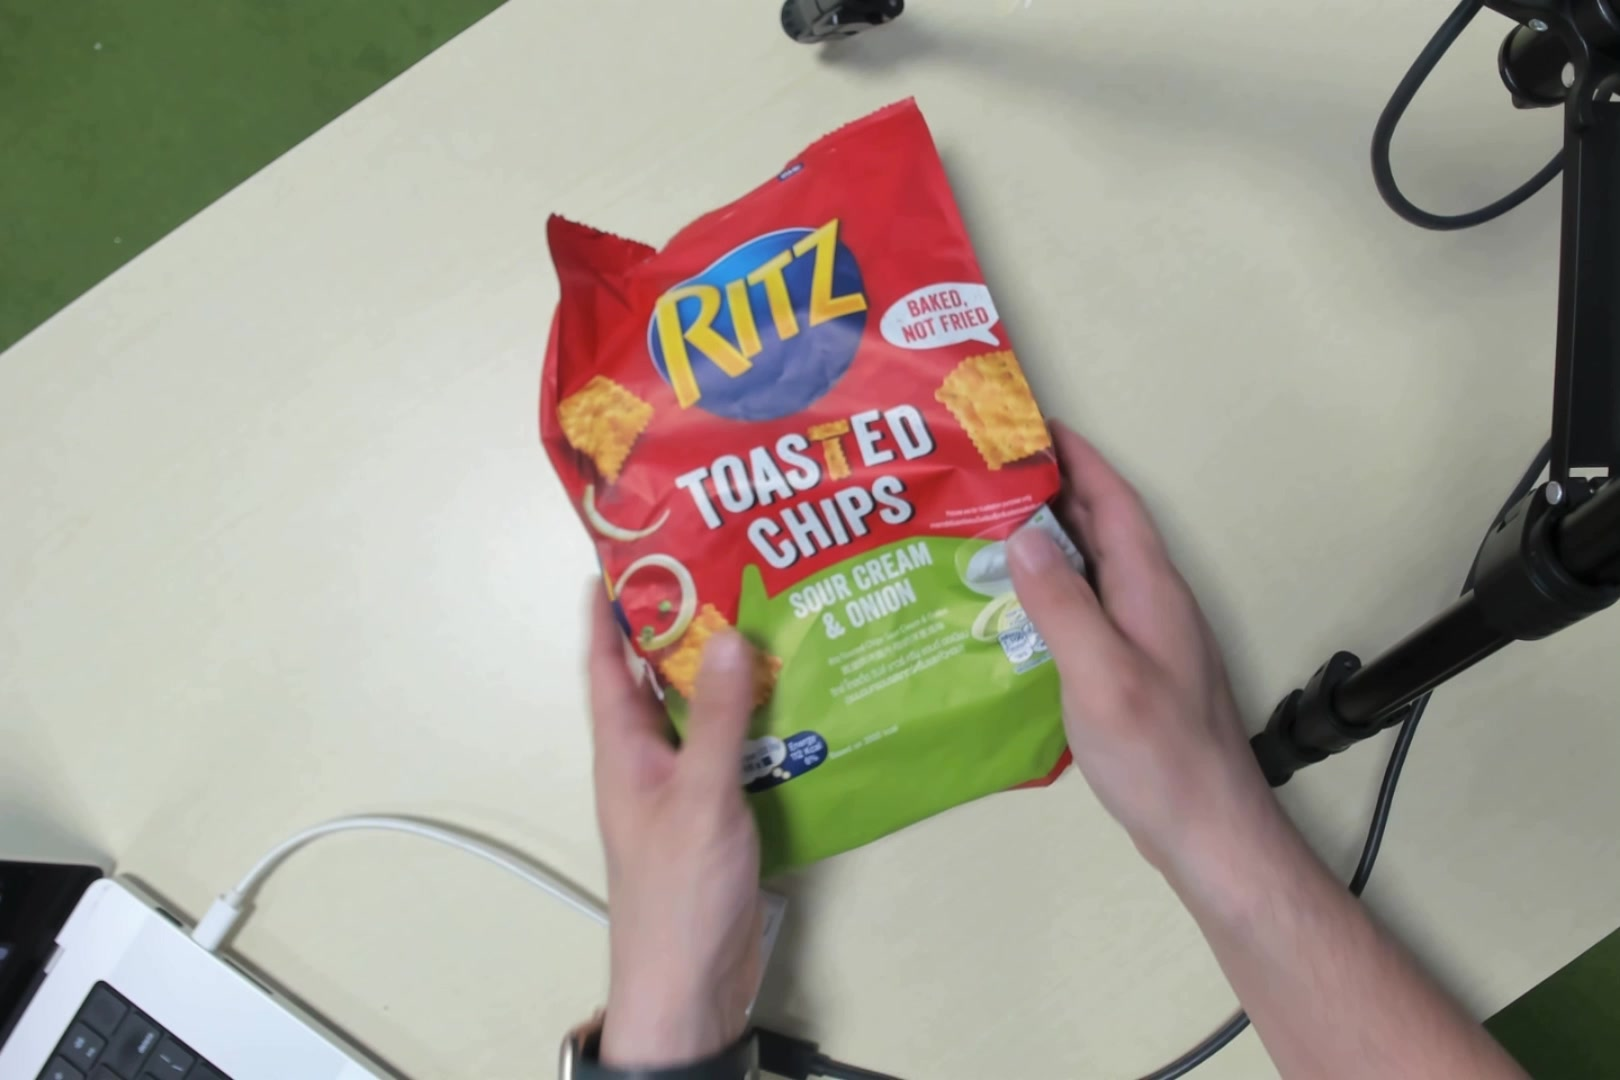BiscuitsCrackersCookies_200-299g_NonHalal_NonHealthy: (559, 163, 1081, 830)
